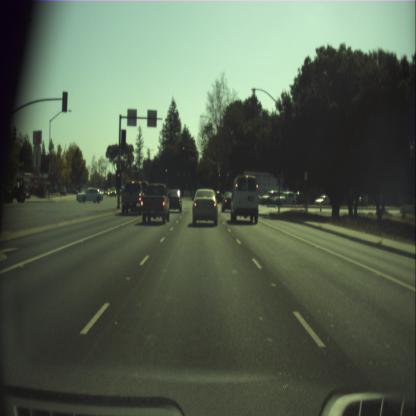Red: (218, 172, 221, 182), (165, 167, 168, 176), (182, 144, 184, 154)
Yellow: (115, 168, 121, 186)
